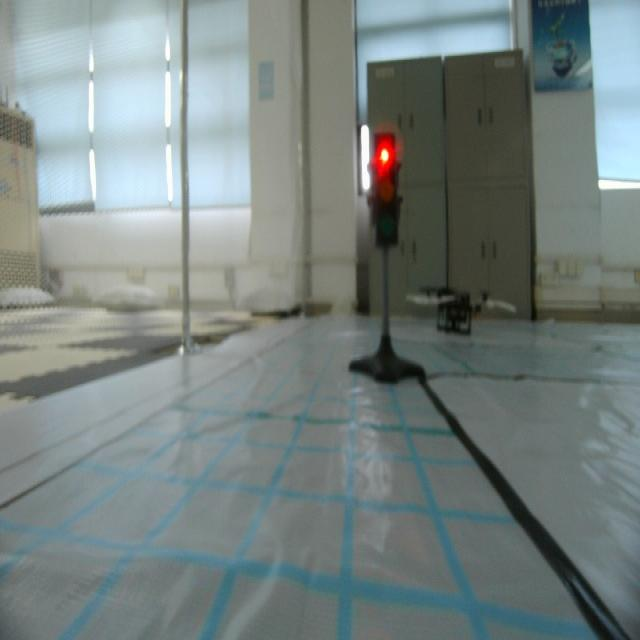red: (365, 128, 404, 257)
